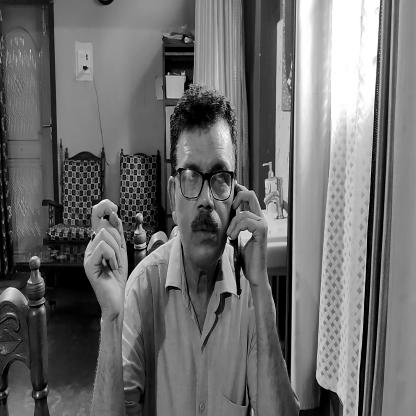Normal: (173, 100, 233, 276)
